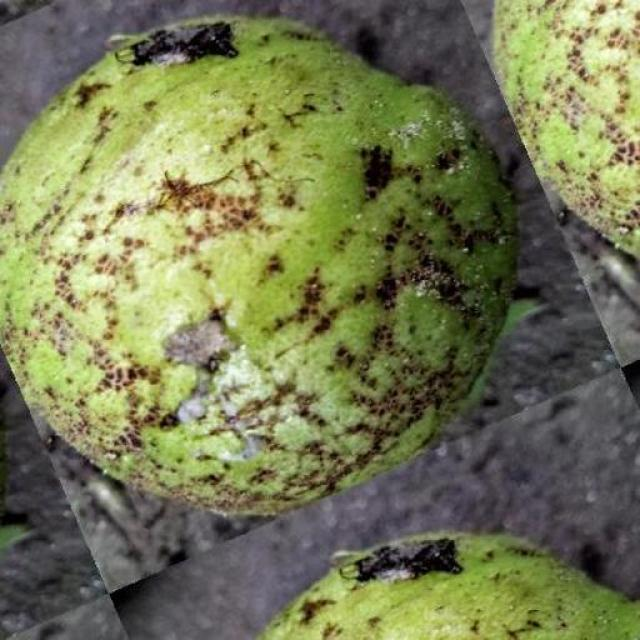Scab: (0, 19, 514, 513), (258, 534, 640, 639)
